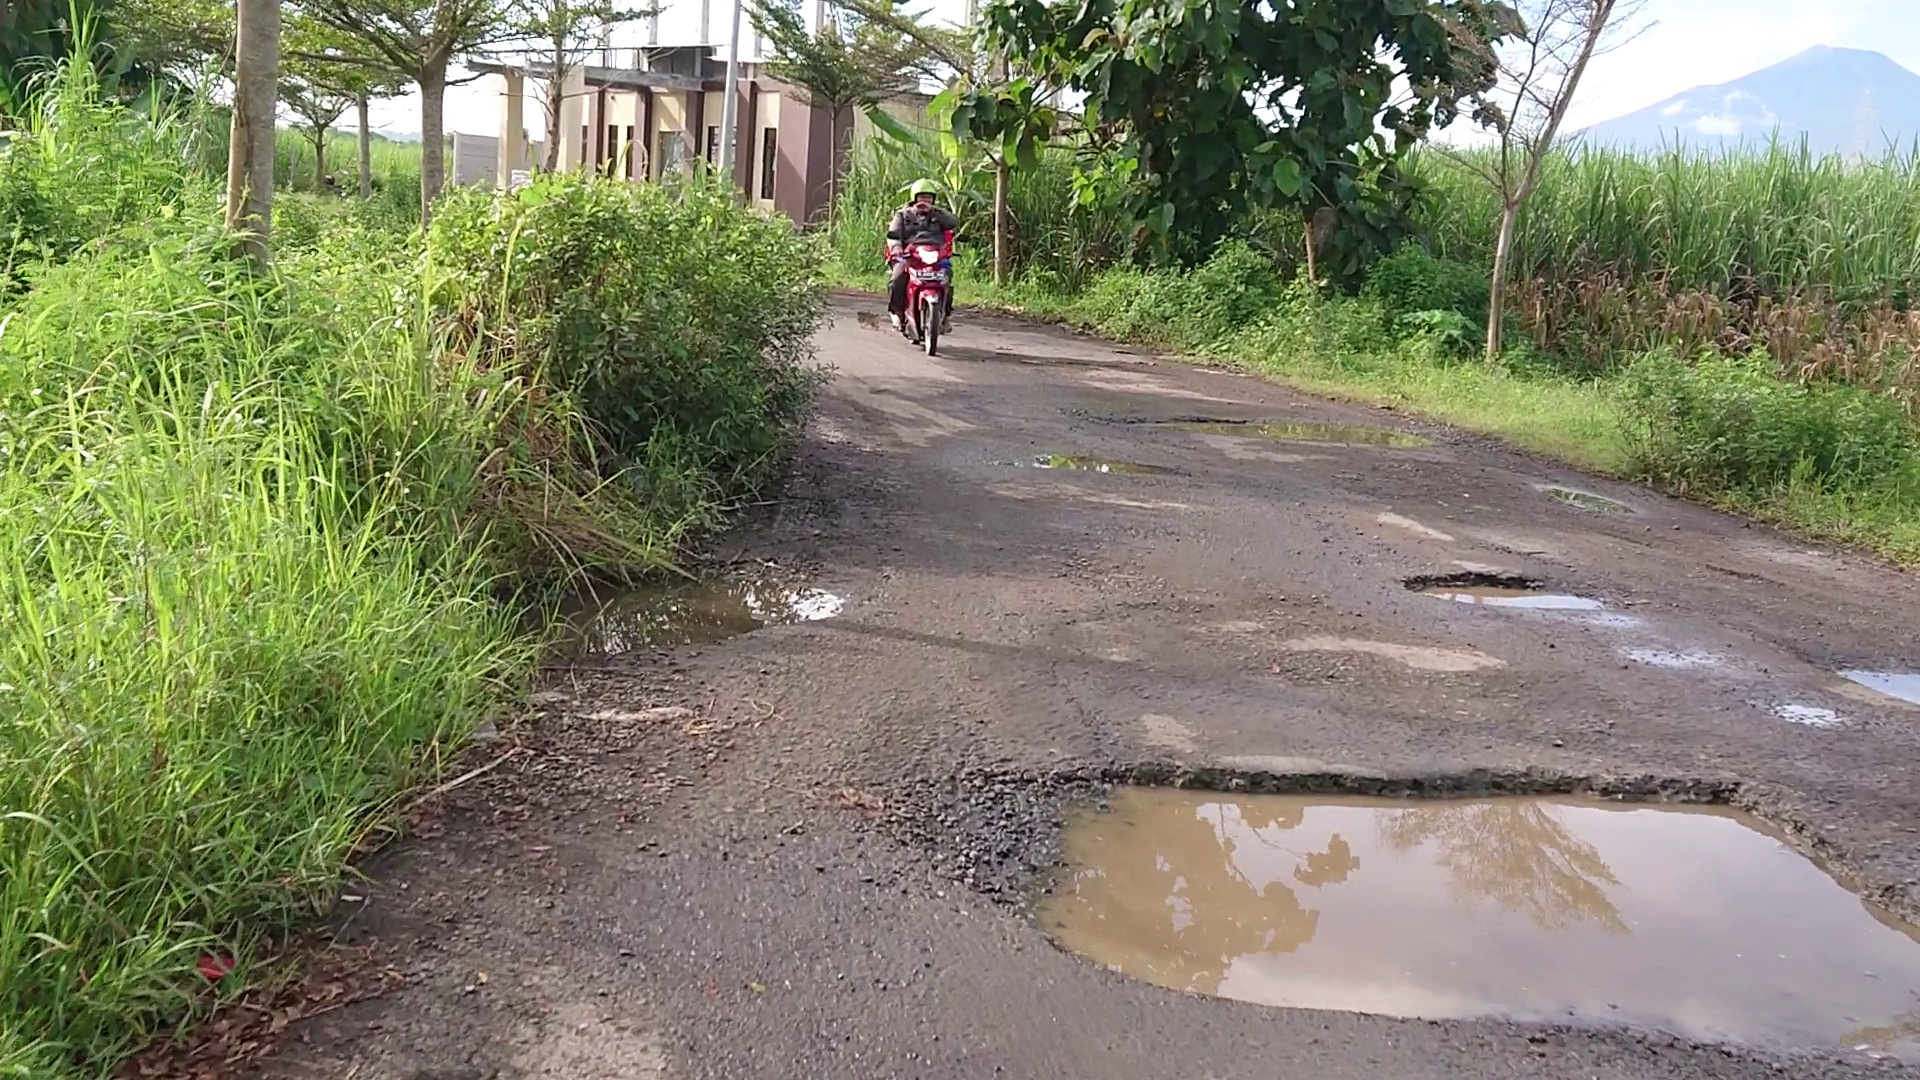Berlubang: (1077, 785, 1894, 1034), (1403, 567, 1606, 616), (1197, 402, 1356, 440)
